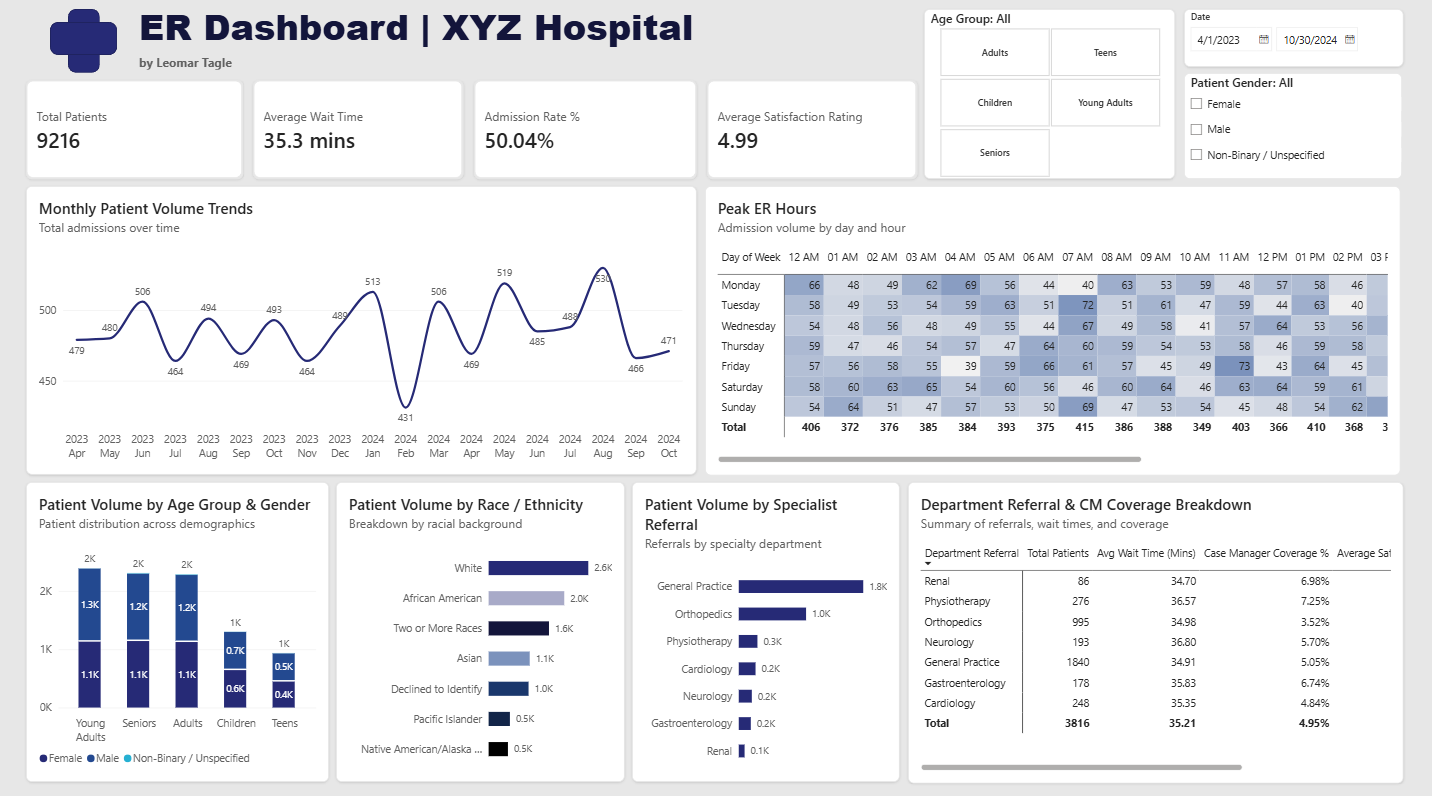

The dashboard page shown, as its layout file describes it:
{"tool":"powerbi","page":{"name":"Page 1","canvas":[1920,1080],"ordinal":0},"visuals":[{"type":"cardVisual","fields":{"Data":["_Calculated Measures.Total Patients"]},"box":[42.3,117.9,288.8,131.5],"z":0},{"type":"cardVisual","fields":{"Data":["_Calculated Measures.Avg Wait Time Card"]},"box":[344.7,117.9,279.7,131.5],"z":1000},{"type":"cardVisual","fields":{"Data":["_Calculated Measures.Admission Rate %"]},"box":[638,117.9,296.3,131.5],"z":2000},{"type":"cardVisual","fields":{"Data":["_Calculated Measures.Avg Satisfaction"]},"box":[947.9,117.9,279.7,131.5],"z":3000},{"type":"slicer","fields":{"Values":["Dim_Calendar.Date"]},"box":[1582.9,24.2,291.8,77.1],"z":4000},{"type":"slicer","fields":{"Values":["Hospital ER Data.Patient Gender"]},"box":[1583.3,109.2,290.3,140.7],"z":5000},{"type":"slicer","fields":{"Values":["Hospital ER Data.Age Group"]},"box":[1237.6,23.9,333.7,226],"z":6000},{"type":"lineChart","title":"Monthly Patient Volume Trends","fields":{"Category":["Dim_Calendar.Year Month"],"Y":["_Calculated Measures.Total Patients"]},"box":[42.6,259.4,892.5,384.4],"z":7000},{"type":"barChart","title":"Patient Volume by Specialist Referral","fields":{"Category":["Hospital ER Data.Department Referral"],"Y":["_Calculated Measures.Total Patients"]},"box":[848.6,653.1,356.5,399],"z":8000},{"type":"columnChart","title":"Patient Volume by Age Group & Gender","fields":{"Category":["Hospital ER Data.Age Group"],"Series":["Hospital ER Data.Patient Gender"],"Y":["_Calculated Measures.Total Patients"]},"box":[42.6,653.1,403,399],"z":9000},{"type":"clusteredBarChart","title":"Patient Volume by Race / Ethnicity","fields":{"Category":["Hospital ER Data.Patient Race"],"Y":["_Calculated Measures.Total Patients"]},"box":[454.9,653.1,384.4,399],"z":10000},{"type":"pivotTable","title":"Department Referral & CM Coverage Breakdown","fields":{"Rows":["Hospital ER Data.Department Referral"],"Values":["_Calculated Measures.Total Patients","_Calculated Measures.Avg Wait Time (Mins)","_Calculated Measures.Case Manager Coverage %","_Calculated Measures.Avg Satisfaction","_Calculated Measures.Admission Rate %"]},"box":[1216.1,653.4,658.6,400.7],"z":11000},{"type":"pivotTable","title":"Peak ER Hours","fields":{"Columns":["Hospital ER Data.Hour of Day"],"Rows":["Dim_Calendar.Day of Week"],"Values":["_Calculated Measures.Total Patients"]},"box":[945.8,258.9,924.8,384.6],"z":12000},{"type":"textbox","title":"ER Dashboard | XYZ Hospital","box":[192.9,14.6,833.9,103.7],"z":13000},{"type":"shape","box":[98.3,24.2,42.3,84.7],"z":14000},{"type":"shape","box":[74.1,40.8,89.2,43.8],"z":15000}]}

Visuals, with their boxes in screenshot pixels (x1, y1, x2, y2), scaled from the page's 1920x1080 canvas onto the 1432x796 screenshot:
cardVisual - _Calculated Measures.Total Patients: x1=32 y1=87 x2=247 y2=184
cardVisual - _Calculated Measures.Avg Wait Time Card: x1=257 y1=87 x2=466 y2=184
cardVisual - _Calculated Measures.Admission Rate %: x1=476 y1=87 x2=697 y2=184
cardVisual - _Calculated Measures.Avg Satisfaction: x1=707 y1=87 x2=916 y2=184
slicer - Dim_Calendar.Date: x1=1181 y1=18 x2=1398 y2=75
slicer - Hospital ER Data.Patient Gender: x1=1181 y1=80 x2=1397 y2=184
slicer - Hospital ER Data.Age Group: x1=923 y1=18 x2=1172 y2=184
"Monthly Patient Volume Trends" lineChart: x1=32 y1=191 x2=697 y2=475
"Patient Volume by Specialist Referral" barChart: x1=633 y1=481 x2=899 y2=775
"Patient Volume by Age Group & Gender" columnChart: x1=32 y1=481 x2=332 y2=775
"Patient Volume by Race / Ethnicity" clusteredBarChart: x1=339 y1=481 x2=626 y2=775
"Department Referral & CM Coverage Breakdown" pivotTable: x1=907 y1=482 x2=1398 y2=777
"Peak ER Hours" pivotTable: x1=705 y1=191 x2=1395 y2=474
"ER Dashboard | XYZ Hospital" textbox: x1=144 y1=11 x2=766 y2=87
shape: x1=73 y1=18 x2=105 y2=80
shape: x1=55 y1=30 x2=122 y2=62
